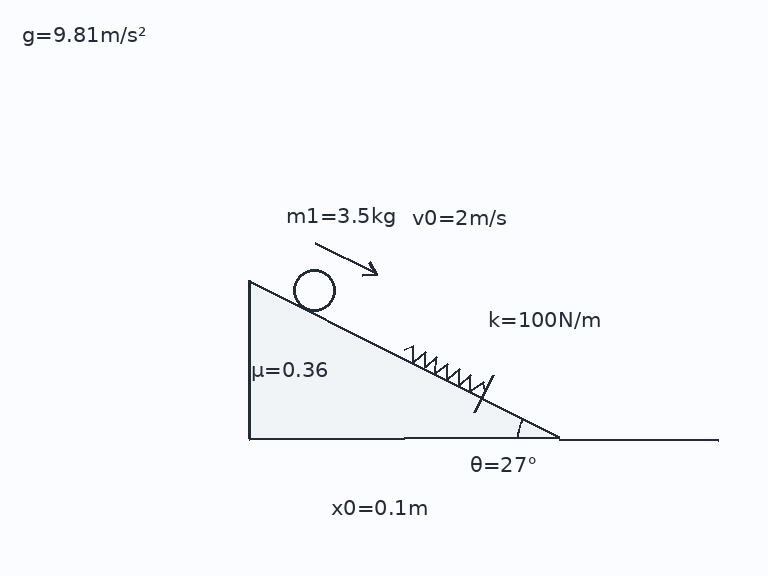ball: (291, 267, 337, 313)
ramp: (247, 278, 560, 440)
spring: (402, 344, 487, 393)
